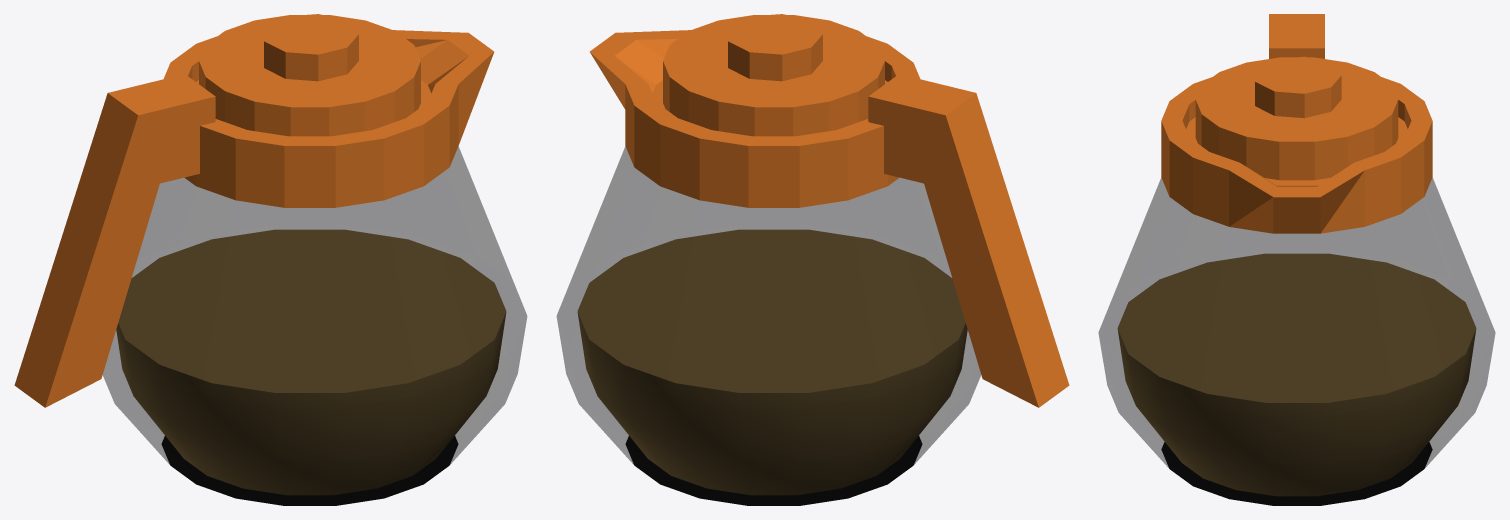
File: SM_foodCoffee.glb
3 renders of one model, left to right at view 1: azimuth 30°, elevation 25°; view 2: azimuth 150°, elevation 25°; view 3: azimuth 270°, elevation 25°, orthographic. The views are drawn at different scales.
Visible parts, largest first — view 1: SM_foodCoffee; view 2: SM_foodCoffee; view 3: SM_foodCoffee.
Part boxes in pixels (box(x1,y1,x2,y2)): SM_foodCoffee: box(14, 14, 526, 505); SM_foodCoffee: box(557, 14, 1069, 505); SM_foodCoffee: box(1098, 14, 1495, 505).
Bounding box in the file's own units: 0.3506 × 0.2948 × 0.2836.
2 materials, 1 textured.
